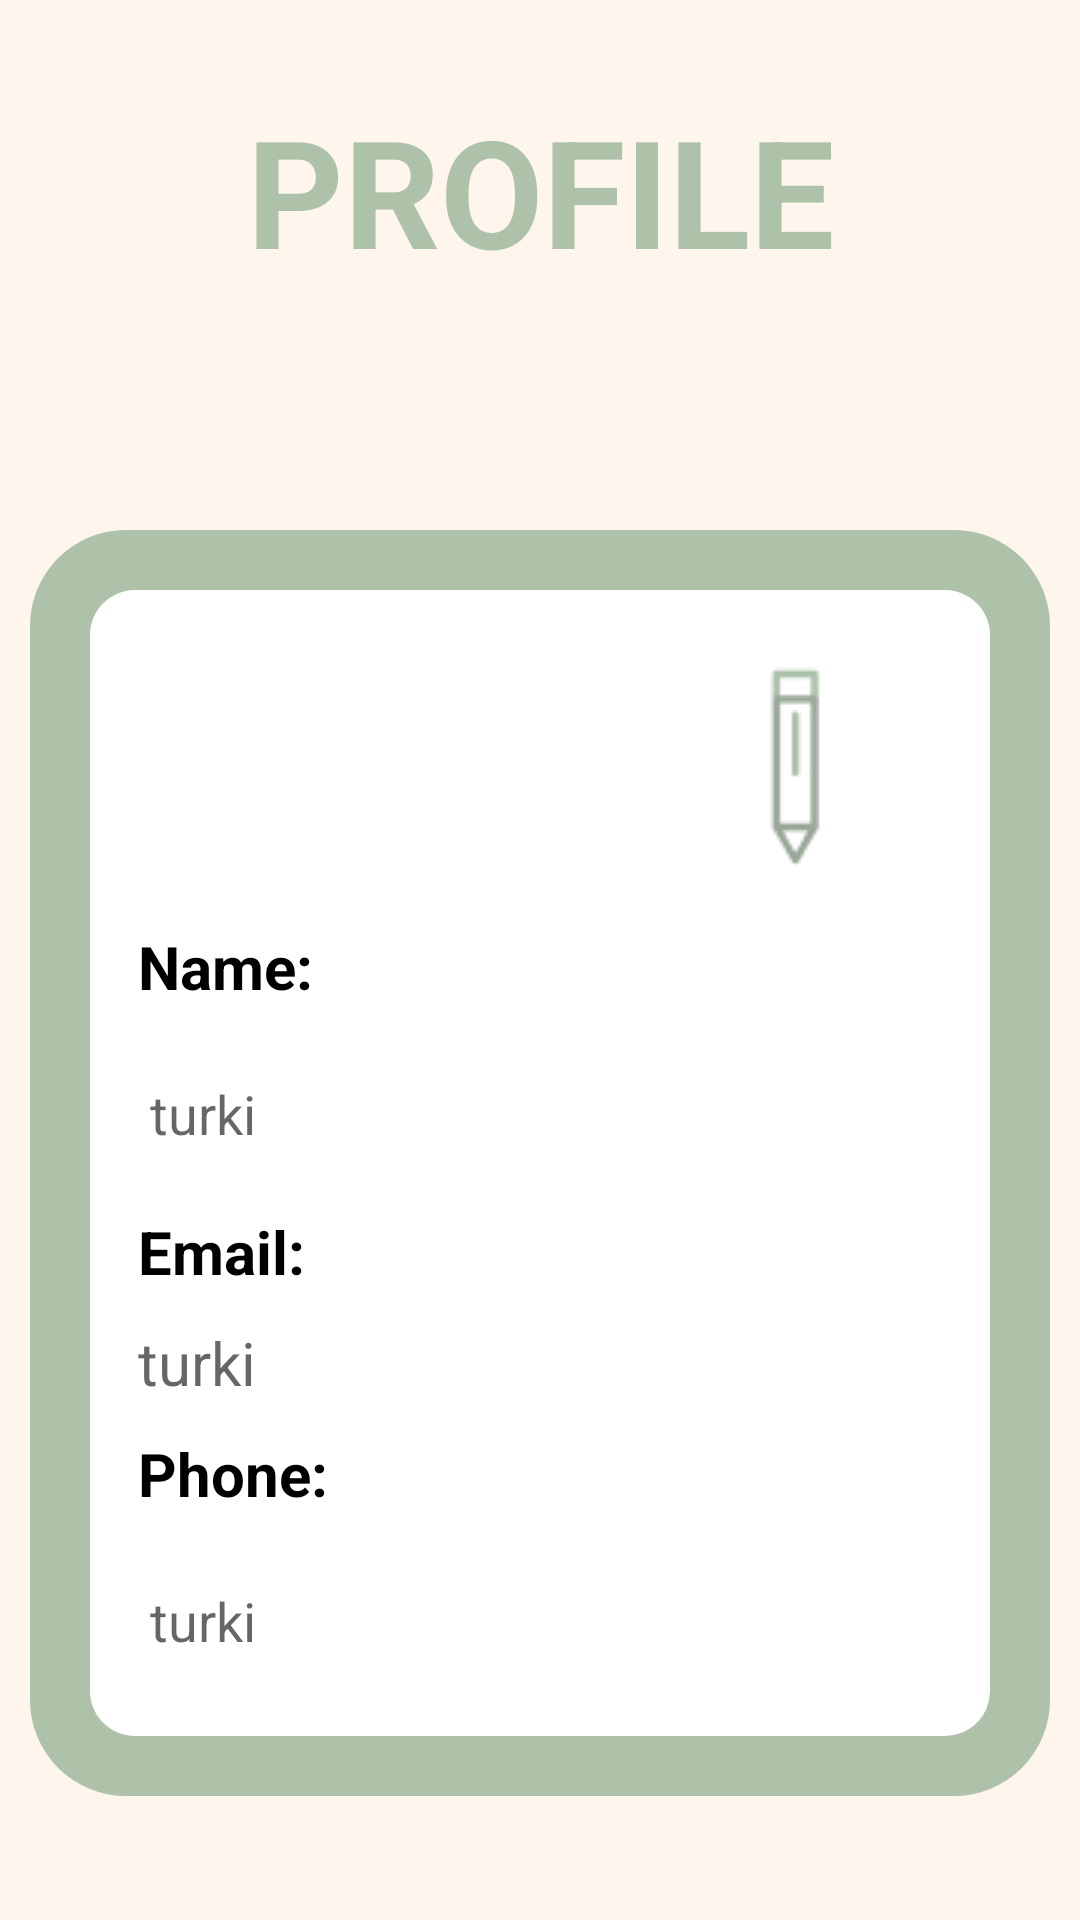

Where to tap for icons on this 1080px x 1920px app screen, as point (x, y):
edit: point (795, 767)
